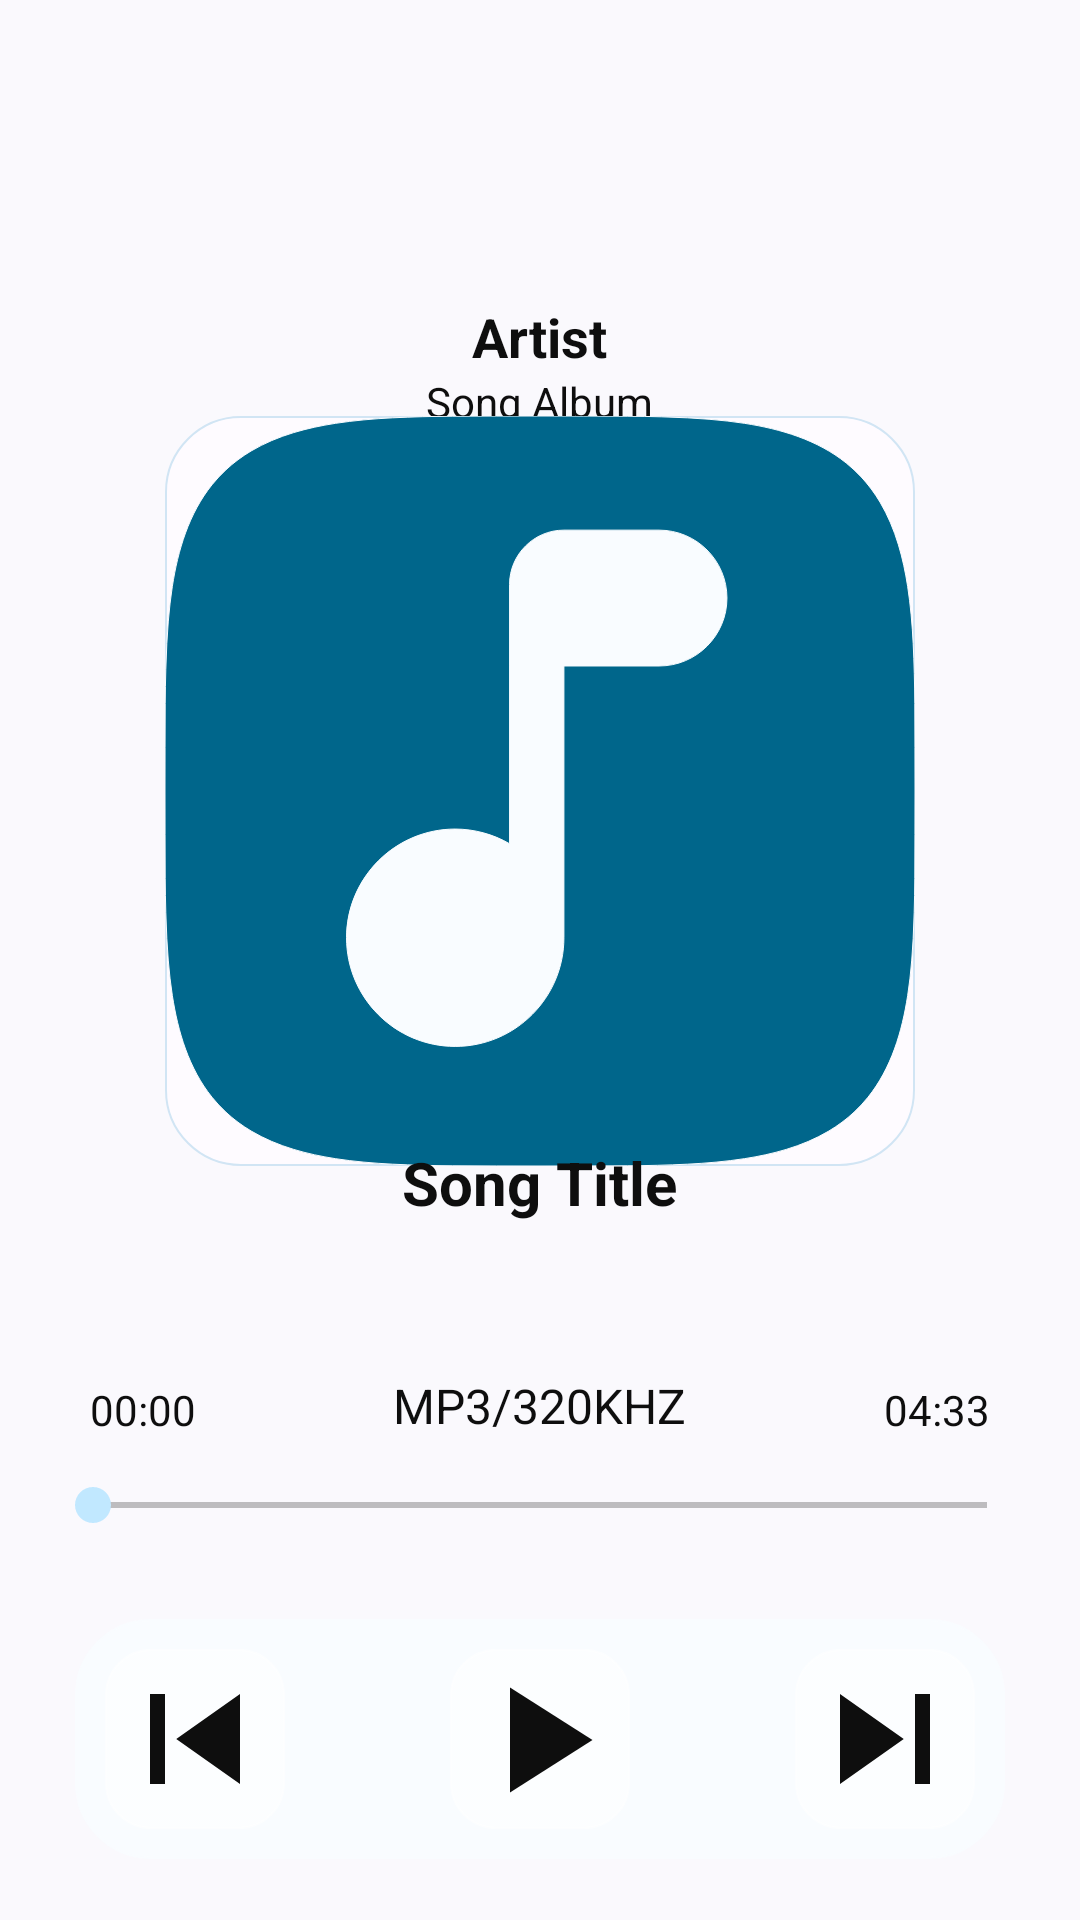

Icon bounding boxes for this 1080px x 1920px phone screenshot, format (x1, y1, x2, y2):
player next: (840, 1694, 930, 1784)
player play: (510, 1687, 592, 1793)
player previous: (150, 1694, 240, 1784)
